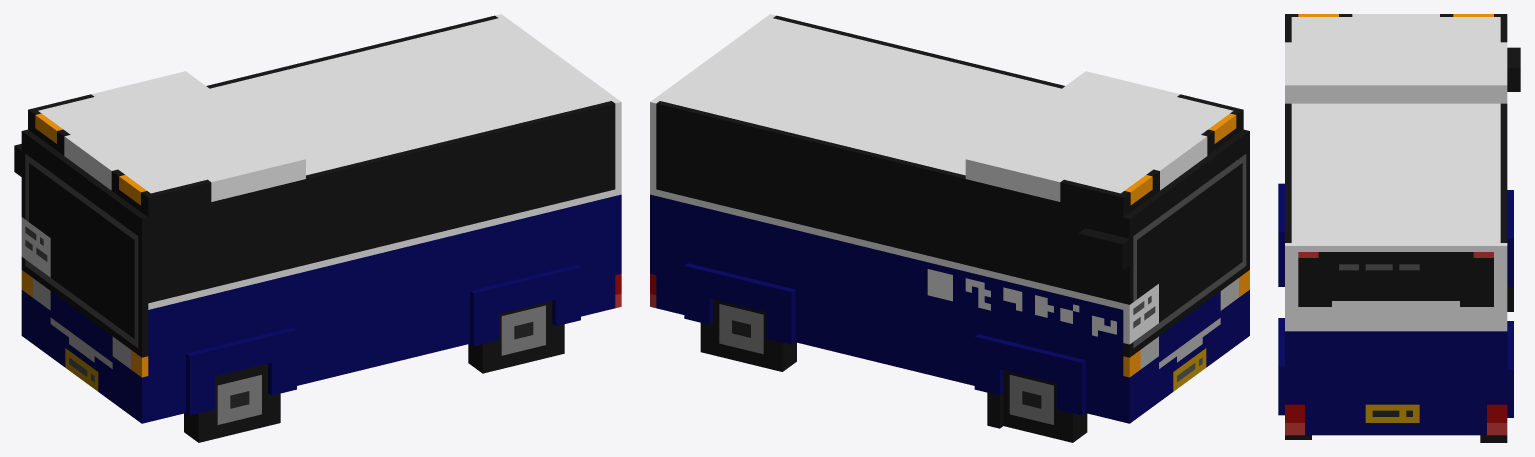
The model's file is bus_yoongyuri.obj.obj.
The picture shows the model from 3 angles, left to right: view 1: azimuth 30°, elevation 25°; view 2: azimuth 150°, elevation 25°; view 3: azimuth 270°, elevation 25°; orthographic projection. The views are drawn at different scales.
Bounding box in the file's own units: 7.6 × 3.9 × 3.6.
